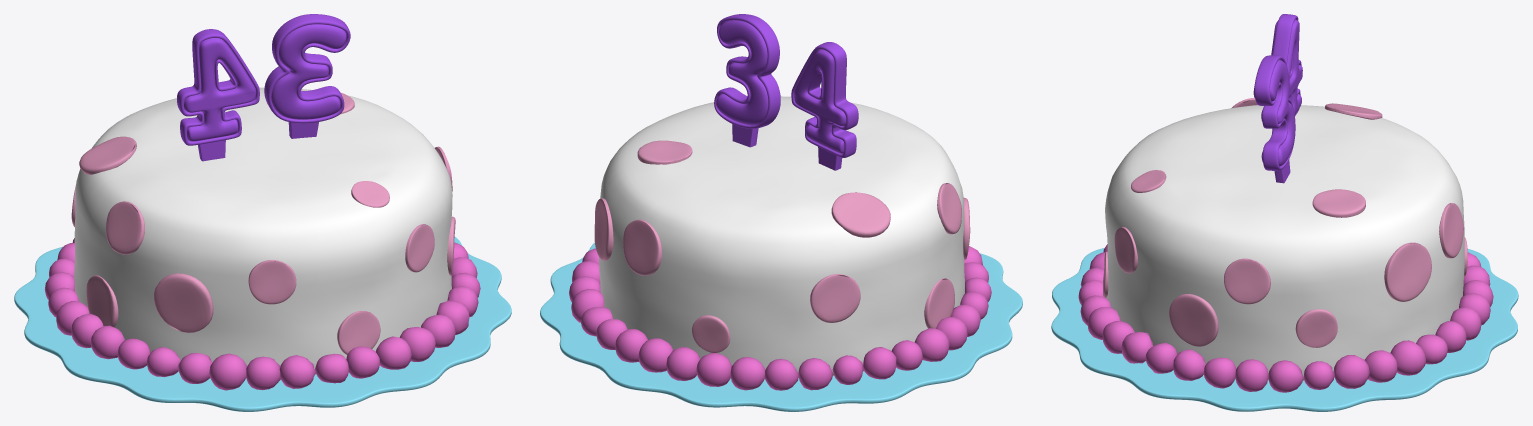
The model's file is torta.fbx.
3 views of the same model, side by side, from view 1: azimuth 30°, elevation 25°; view 2: azimuth 150°, elevation 25°; view 3: azimuth 270°, elevation 25° (orthographic). The views are drawn at different scales.
Visible parts, largest first — view 1: body, base, balls, decorations, 20813_Number_3_v1, 20814_Number_4_v1; view 2: body, balls, base, decorations, 20813_Number_3_v1, 20814_Number_4_v1; view 3: body, balls, base, decorations, 20813_Number_3_v1, 20814_Number_4_v1.
Boxes of the visible parts, x1=… form: body: x1=74, y1=87, x2=452, y2=374; base: x1=14, y1=237, x2=511, y2=411; balls: x1=44, y1=238, x2=480, y2=390; decorations: x1=71, y1=93, x2=455, y2=354; 20813_Number_3_v1: x1=264, y1=14, x2=350, y2=138; 20814_Number_4_v1: x1=177, y1=29, x2=259, y2=161; body: x1=599, y1=96, x2=964, y2=377; balls: x1=569, y1=246, x2=991, y2=390; base: x1=540, y1=242, x2=1022, y2=411; decorations: x1=594, y1=140, x2=970, y2=352; 20813_Number_3_v1: x1=714, y1=14, x2=780, y2=147; 20814_Number_4_v1: x1=791, y1=42, x2=858, y2=170; body: x1=1105, y1=105, x2=1464, y2=380; balls: x1=1078, y1=244, x2=1493, y2=392; base: x1=1051, y1=248, x2=1518, y2=411; decorations: x1=1103, y1=97, x2=1467, y2=347; 20813_Number_3_v1: x1=1253, y1=55, x2=1295, y2=183; 20814_Number_4_v1: x1=1271, y1=14, x2=1302, y2=115.
Size of the model in its own units: 259 by 167 by 259.
